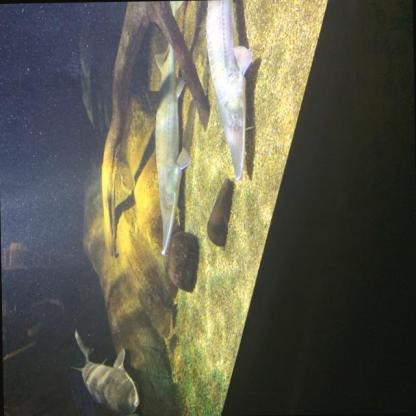fish: (146, 0, 194, 257), (205, 0, 255, 183)
shark: (69, 328, 142, 416)
